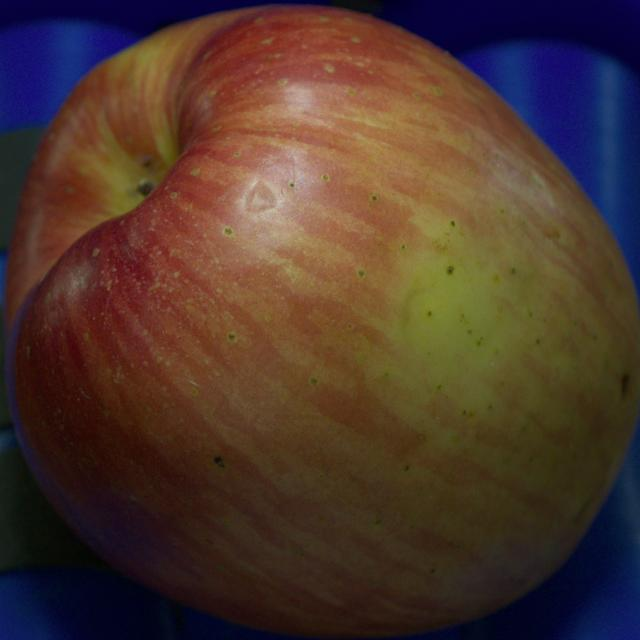apple: (5, 6, 639, 638)
bruise: (246, 181, 276, 212)
pest: (621, 373, 629, 397), (216, 458, 223, 467)
